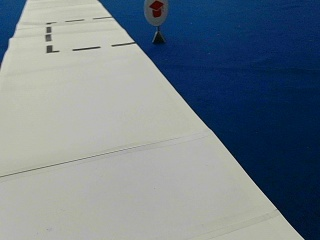school: (143, 1, 168, 25)
